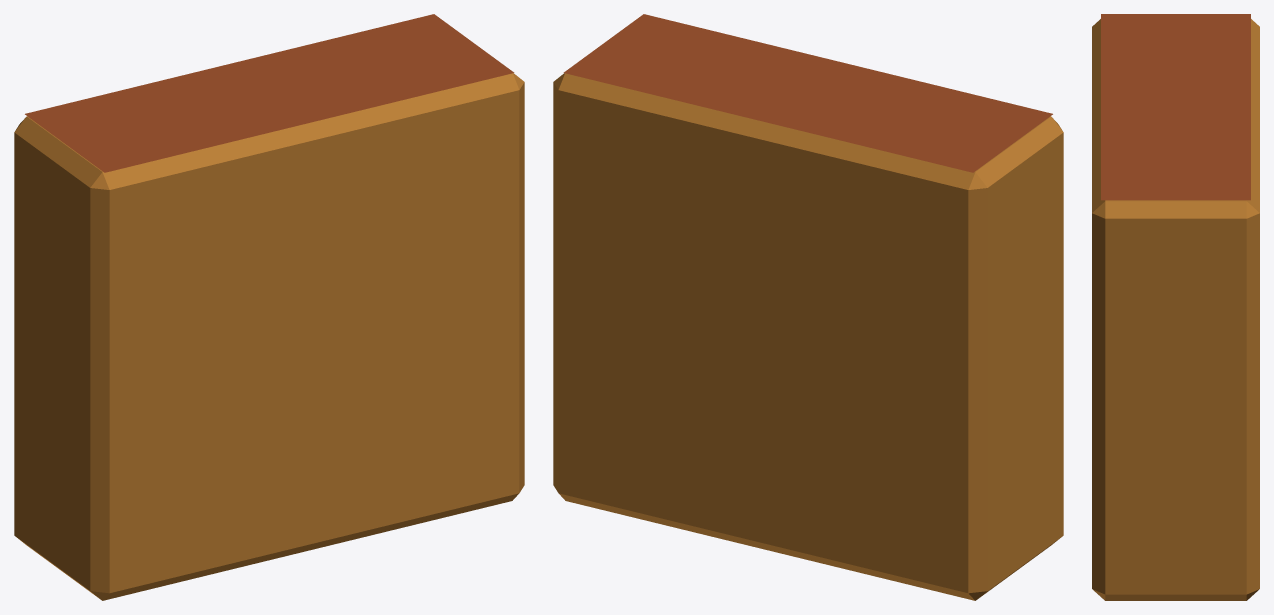
The model's file is target.dae.
3 views of the same model, side by side, from view 1: azimuth 30°, elevation 25°; view 2: azimuth 150°, elevation 25°; view 3: azimuth 270°, elevation 25° (orthographic). The views are drawn at different scales.
Visible parts, largest first — view 1: accent, target_art; view 2: accent, target_art; view 3: accent, target_art.
Part boxes in pixels (left/top/right/bottom): accent: left=14, top=73, right=524, bottom=600; target_art: left=25, top=14, right=514, bottom=172; accent: left=553, top=73, right=1063, bottom=600; target_art: left=563, top=14, right=1052, bottom=172; accent: left=1092, top=19, right=1259, bottom=600; target_art: left=1101, top=14, right=1250, bottom=200.
Size of the model in its own units: 1.06 by 1 by 0.3808.
